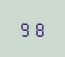eight: (32, 19, 44, 37)
nine: (19, 19, 31, 36)
